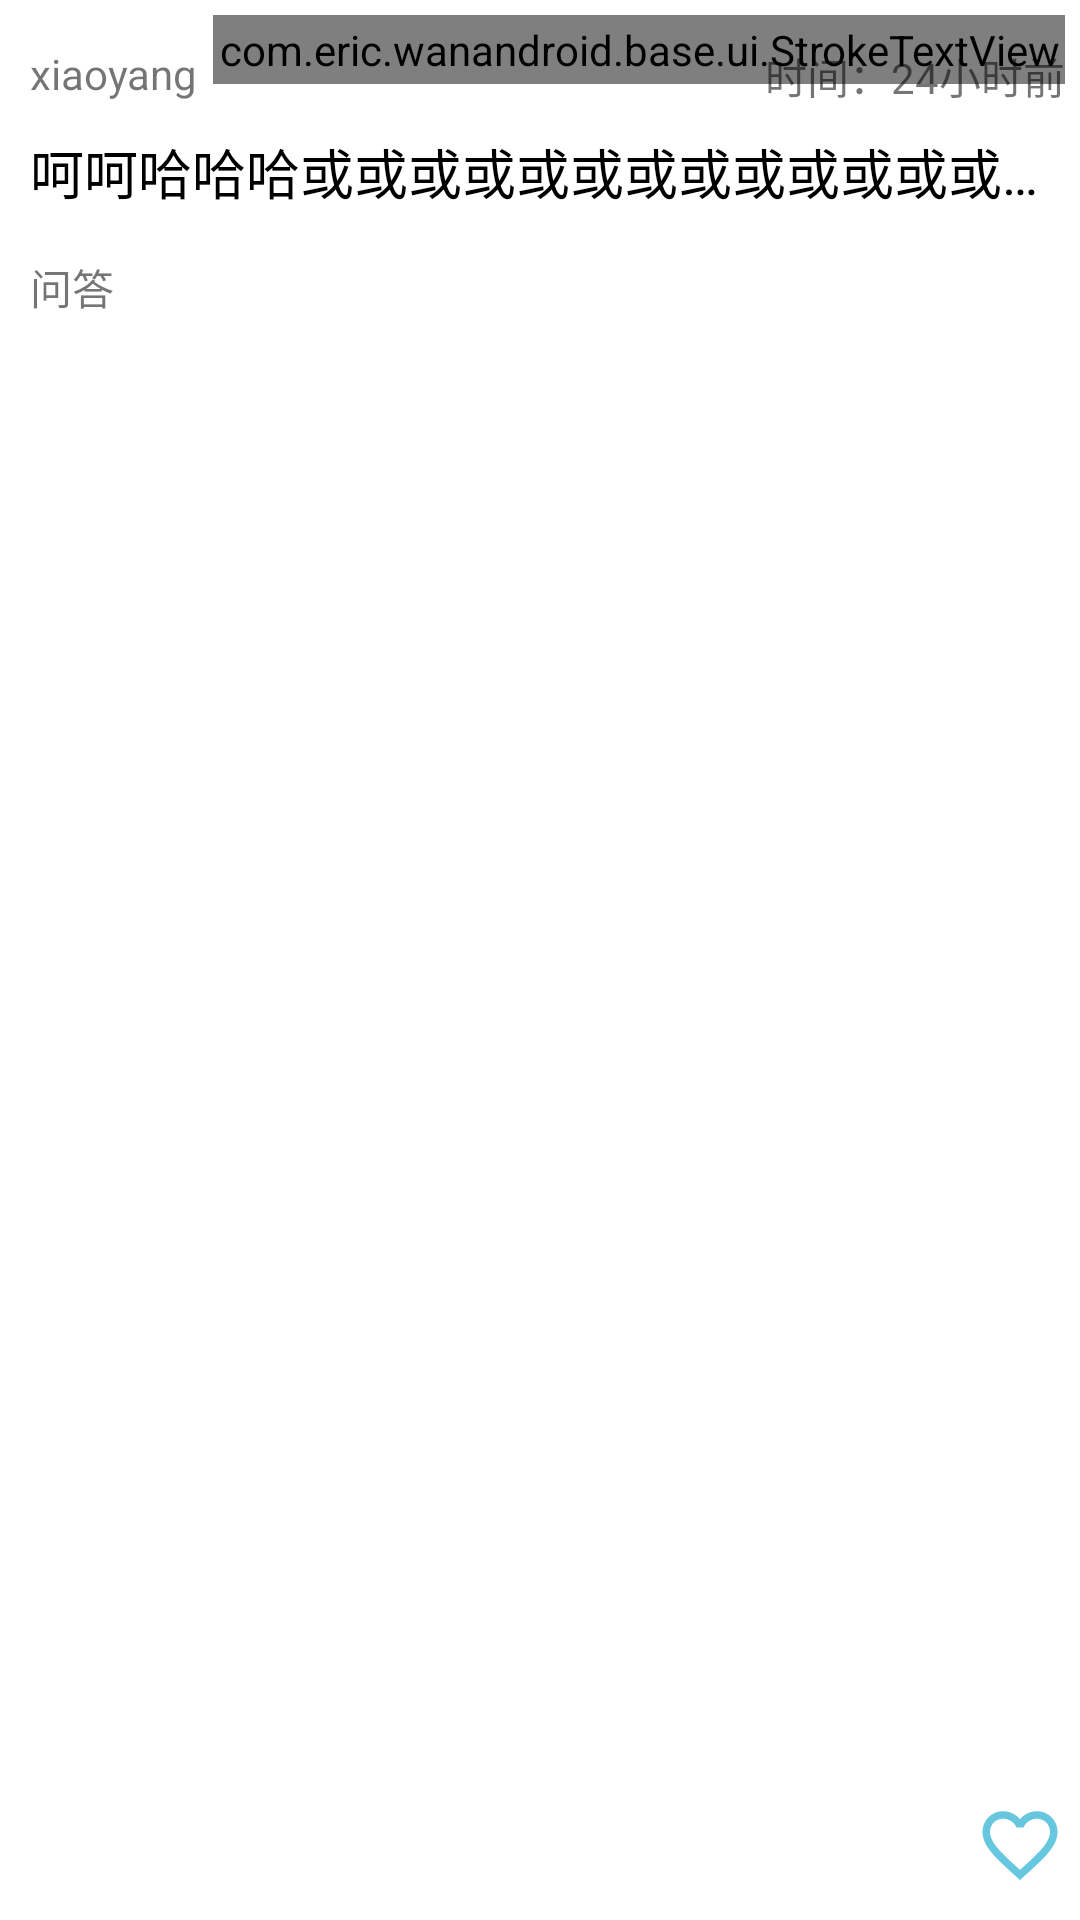

Screen size 1080px×1920px. Icon name, then its box in pixels as [x1=x1, y1=y1, x2=x2, y2=y2]:
favorite border: [x1=982, y1=1811, x2=1058, y2=1880]
